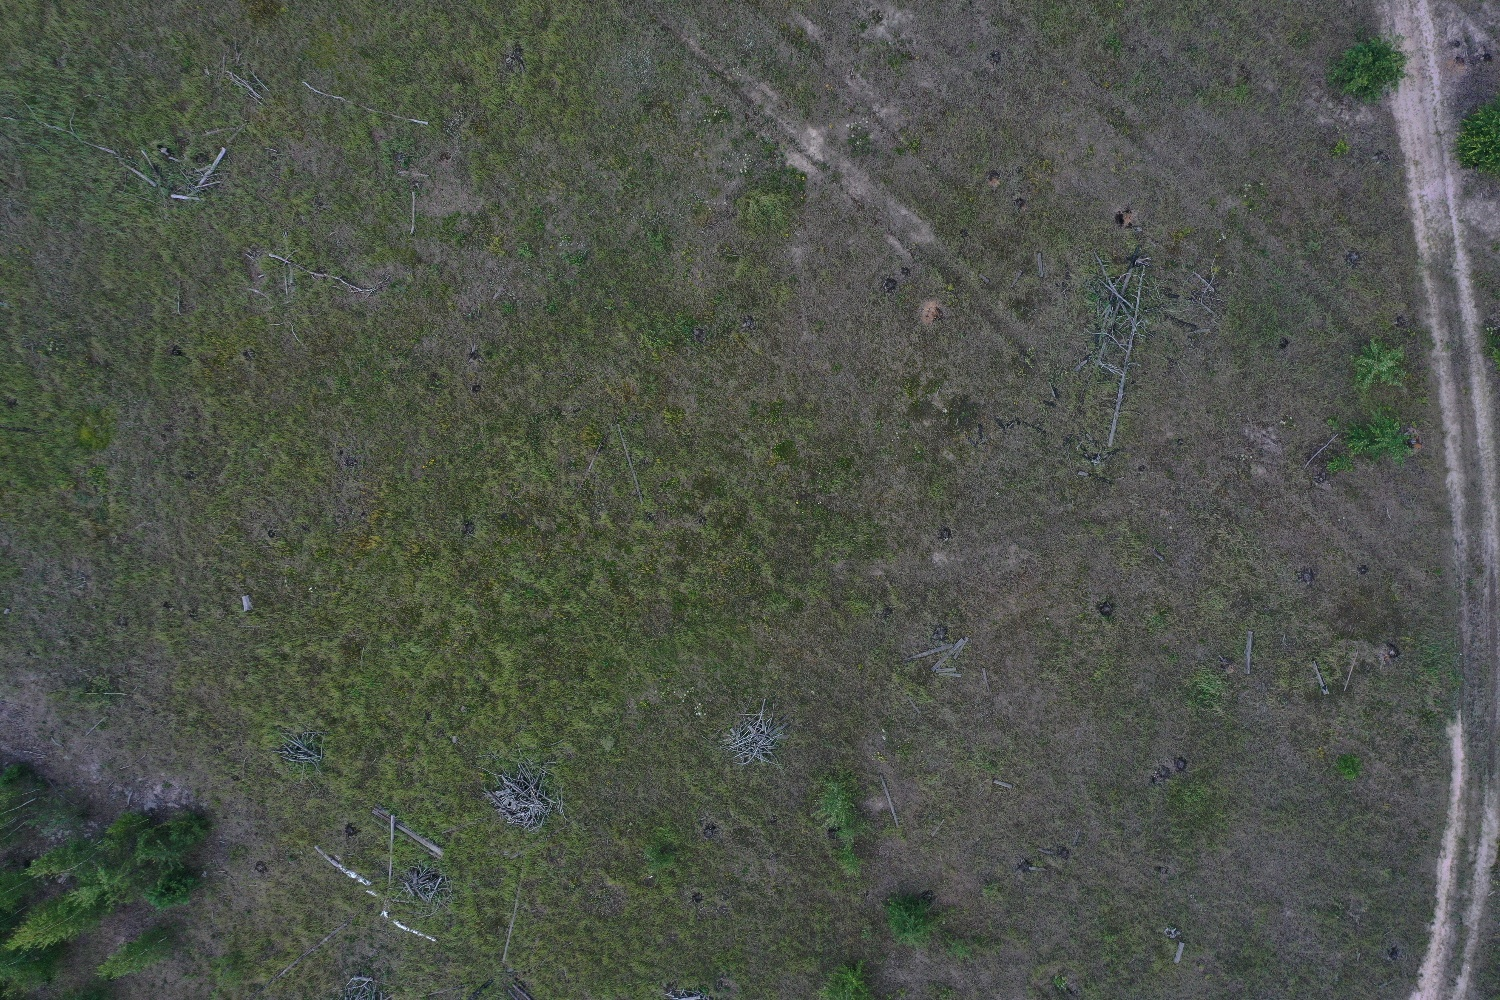branches: (723, 699, 795, 767), (394, 864, 454, 916), (272, 731, 325, 767)
